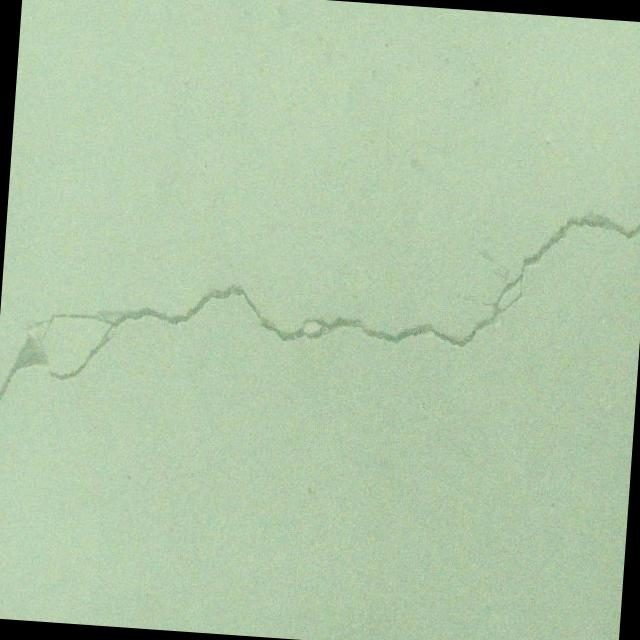crack: (0, 172, 640, 459)
